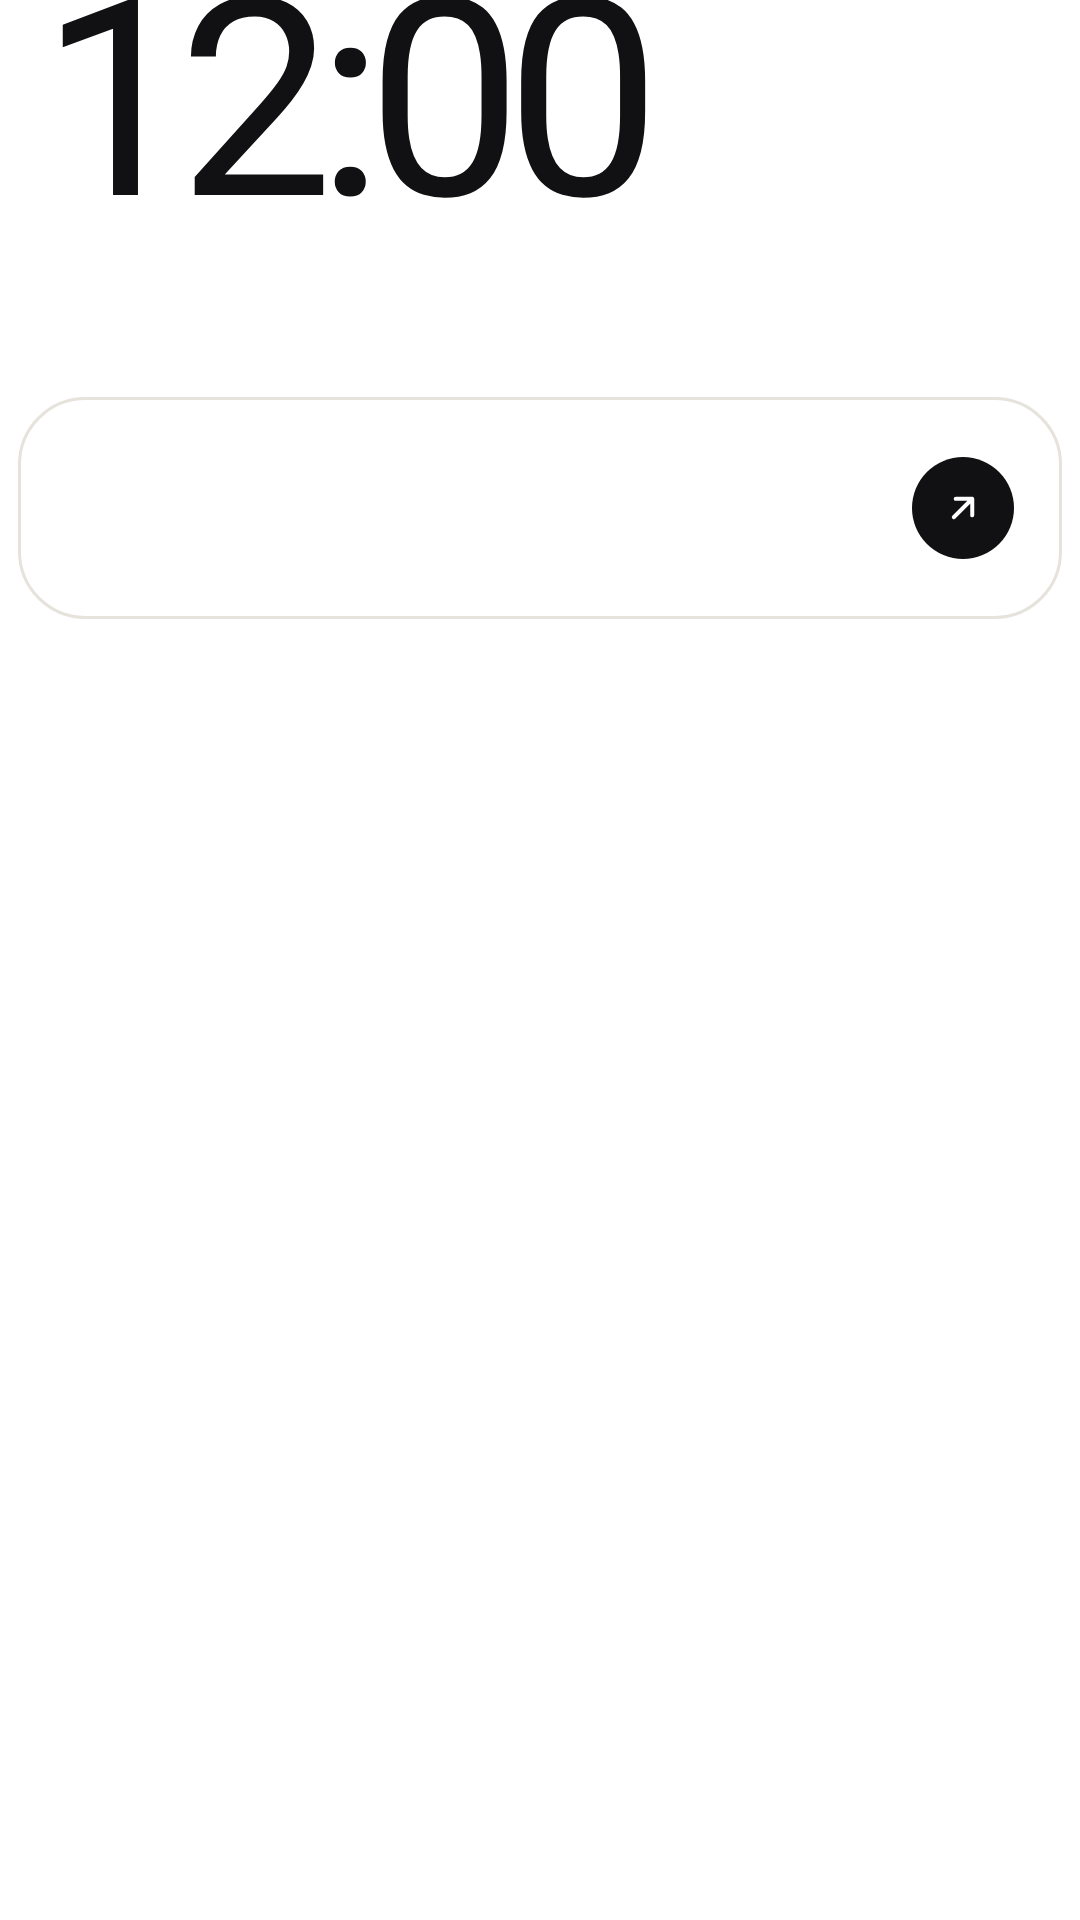

Named icons in this screenshot (1080px×1920px) and their centers, (x,y):
home arrow: (963,508)
